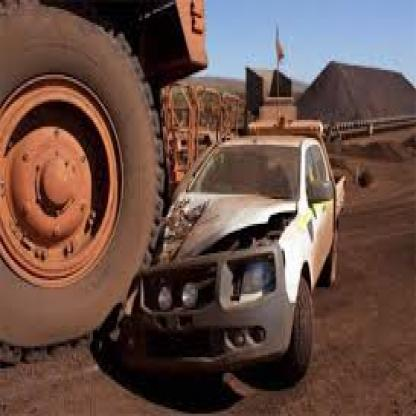light_vehicle: (127, 106, 361, 398)
